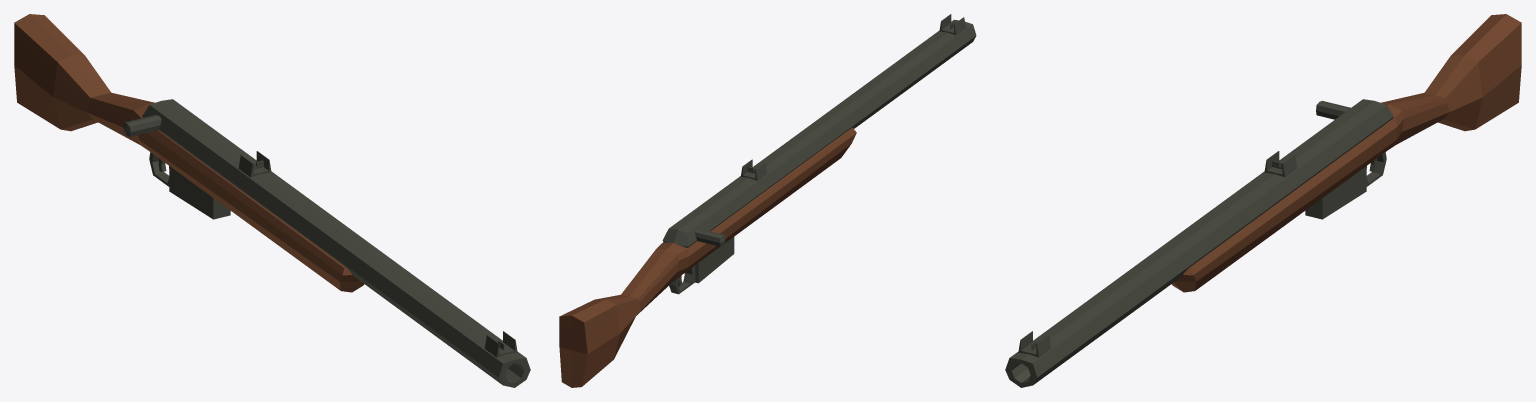
The model's file is rifle.fbx.
The picture shows the model from 3 angles, left to right: view 1: azimuth 30°, elevation 25°; view 2: azimuth 150°, elevation 25°; view 3: azimuth 330°, elevation 25°; orthographic projection. The views are drawn at different scales.
Visible parts, largest first — view 1: Rifle; view 2: Rifle; view 3: Rifle.
Part boxes in pixels (x1,y1,x2,y2): Rifle: (14,14,530,387); Rifle: (559,14,976,387); Rifle: (1005,14,1521,387).
Size of the model in its own units: 320 by 511 by 4033.
